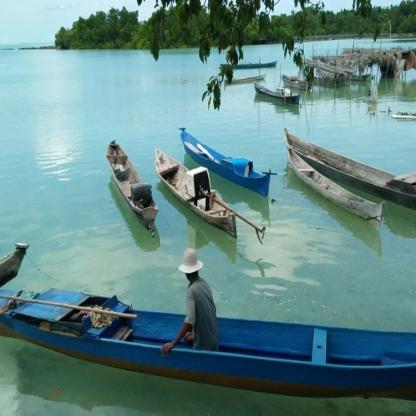boat: (1, 312, 408, 381), (284, 152, 379, 223), (106, 128, 149, 224), (201, 135, 271, 176), (162, 159, 197, 219), (255, 82, 301, 106), (236, 60, 280, 70)
